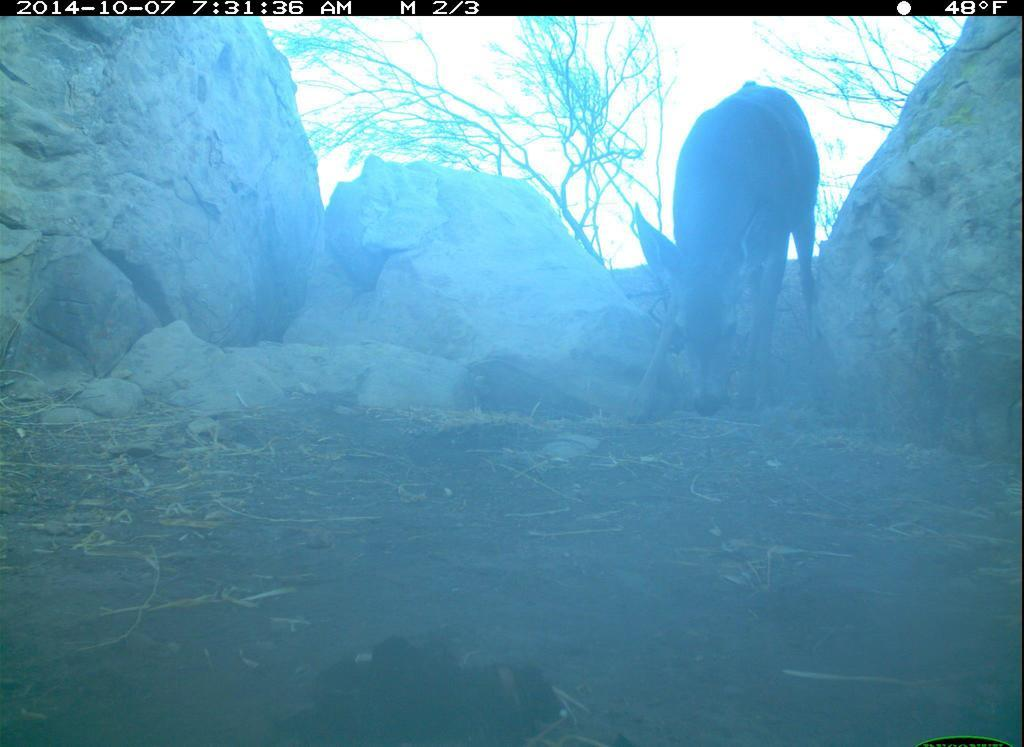deer: (611, 61, 867, 445)
